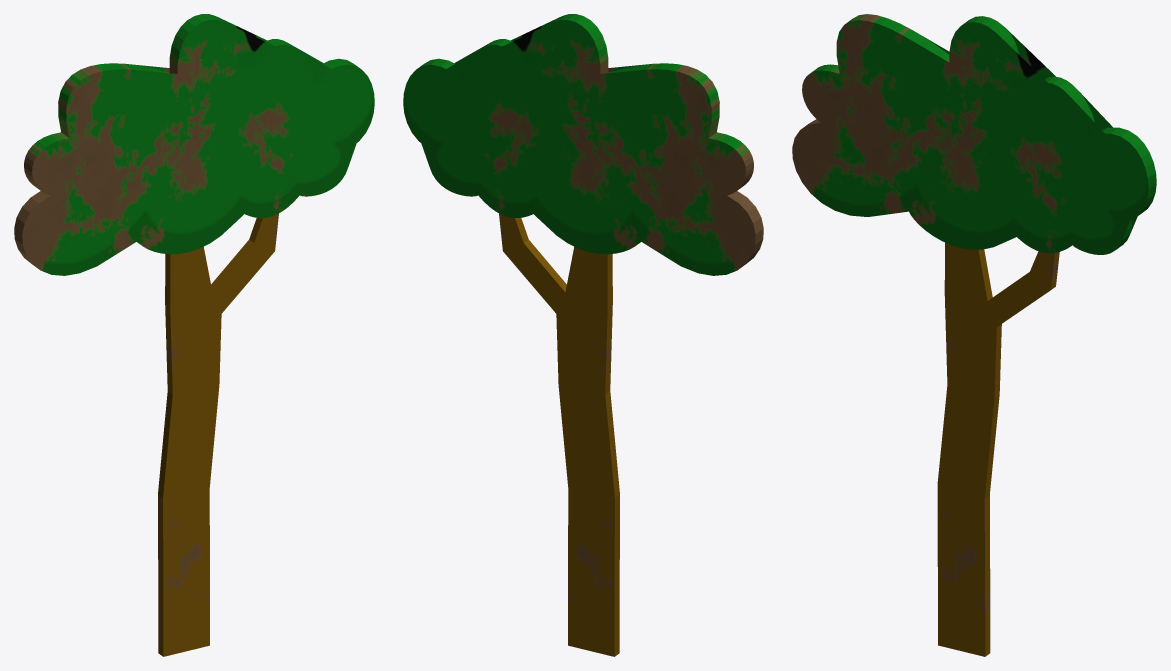
Rendered from arbol 4.fbx.
The picture shows the model from 3 angles, left to right: view 1: azimuth 30°, elevation 25°; view 2: azimuth 150°, elevation 25°; view 3: azimuth 330°, elevation 25°; orthographic projection.
Visible parts, largest first — view 1: arbol 4; view 2: arbol 4; view 3: arbol 4.
Part boxes in pixels (x1,y1,x2,y2): arbol 4: (14,14,374,656); arbol 4: (403,14,763,656); arbol 4: (792,14,1156,656).
Size of the model in its own units: 442 by 751 by 17.73.
